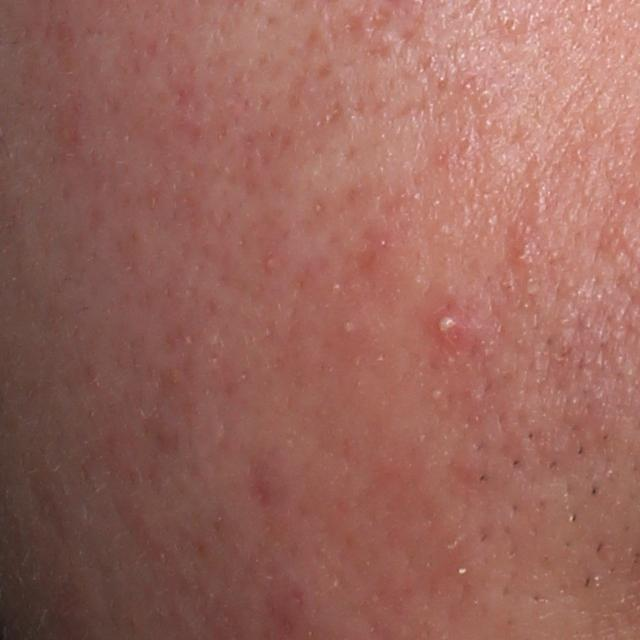comedo: (469, 85, 504, 113), (499, 11, 526, 35)
pustule: (430, 305, 474, 346)
